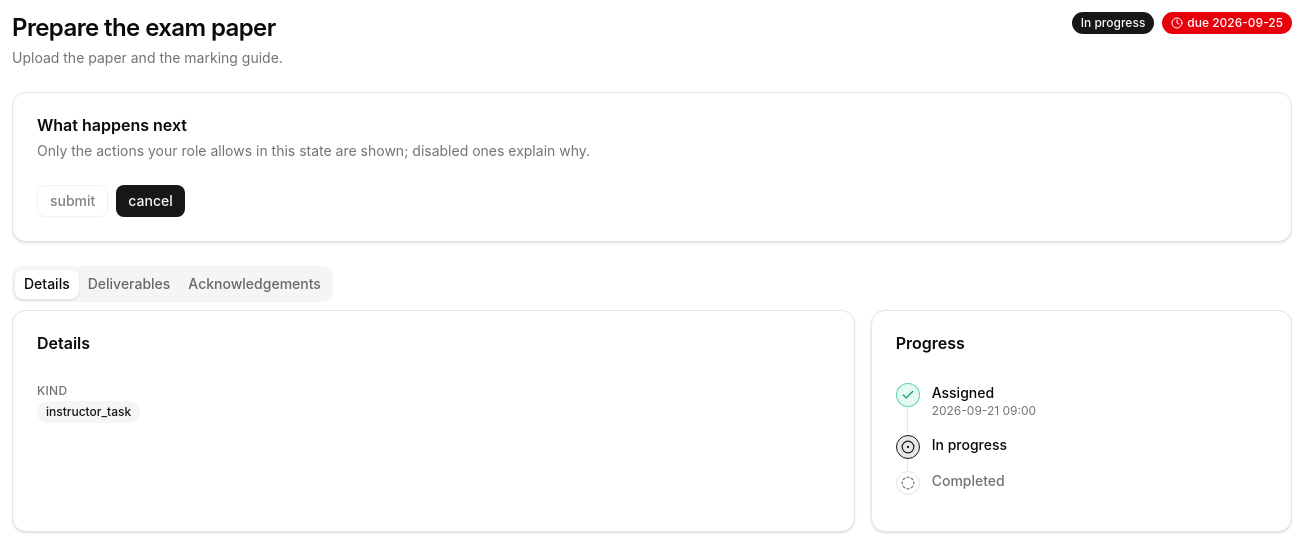
it: RecordDetail › shows the deliverable slots and the acknowledgements in their tabs
Click the tab "Deliverables": (129, 284) 79,270 -> 179,298
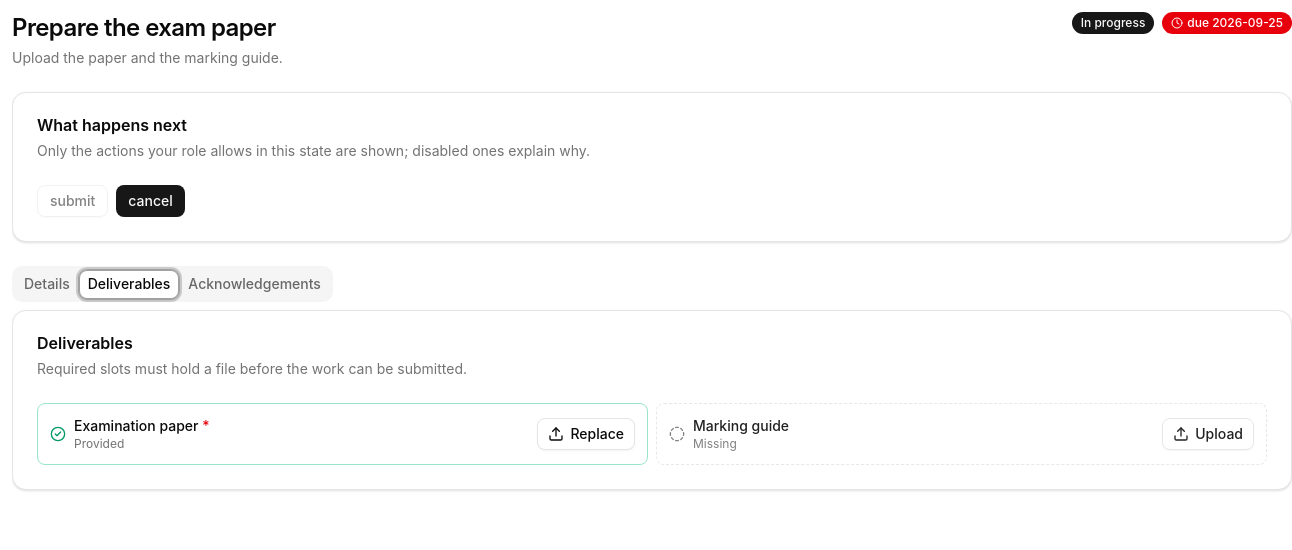
Click the tab "Acknowledgements": (255, 284) 179,270 -> 330,298
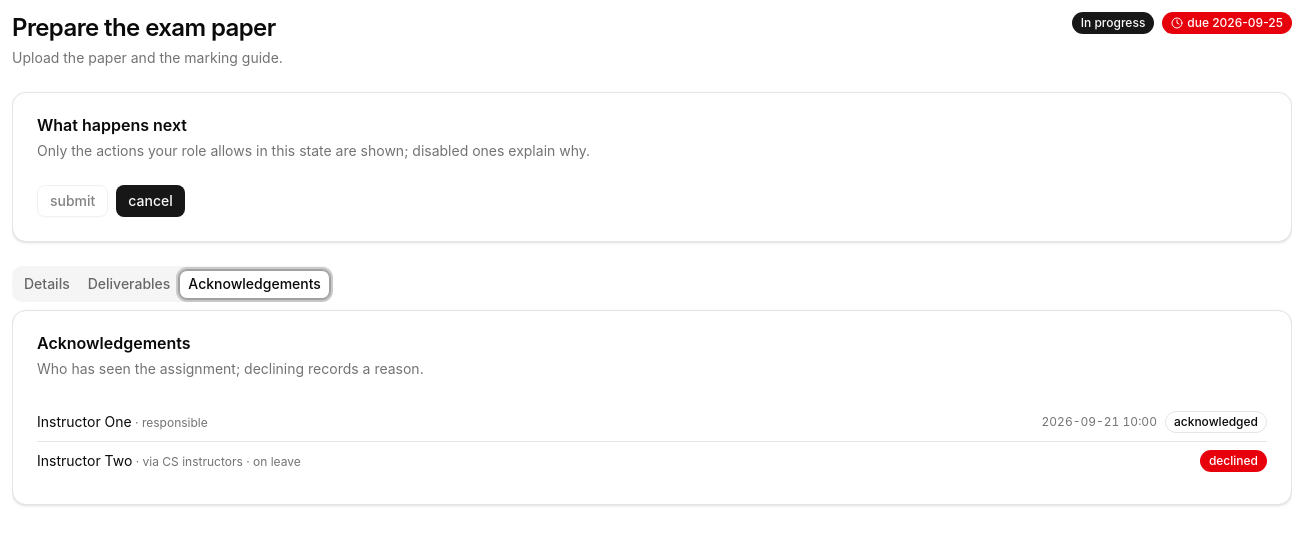
Check: the list with test id "acknowledgements" shows "Instructor One", box 37,413 -> 132,430
Check: the list with test id "acknowledgements" shows "acknowledged", box 1174,414 -> 1258,429
Check: the list with test id "acknowledgements" shows "via CS instructors", box 37,403 -> 1267,480
